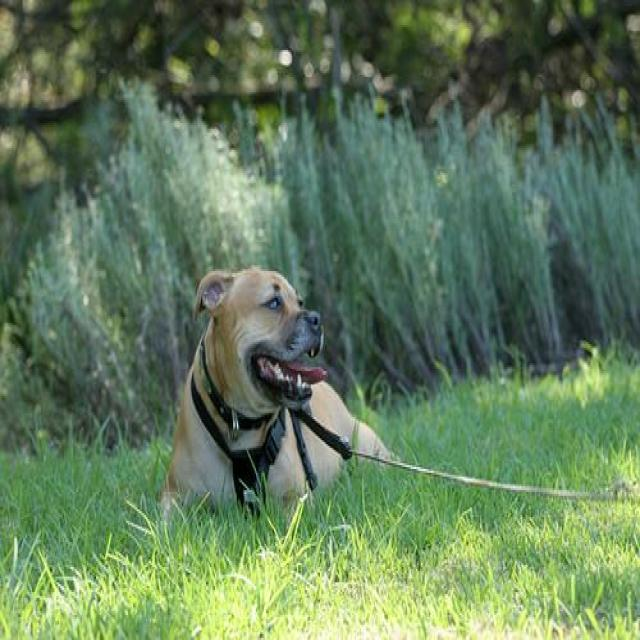staffordshire_bullterrier: (163, 260, 398, 530)
